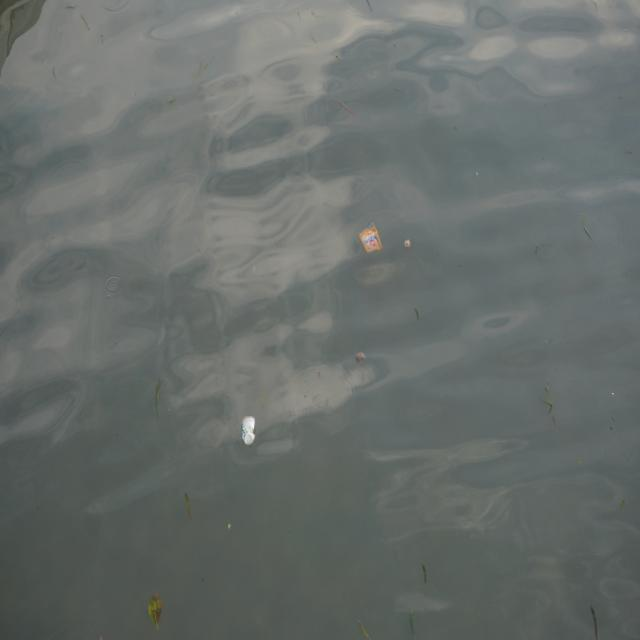Bungkus Makanan: (358, 221, 384, 255)
Bungkus Minuman: (240, 414, 258, 449)
